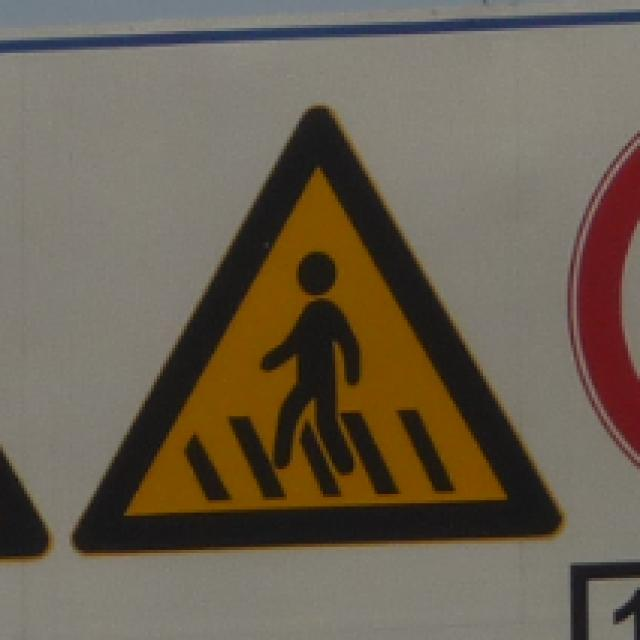Crossing: (68, 88, 573, 572)
